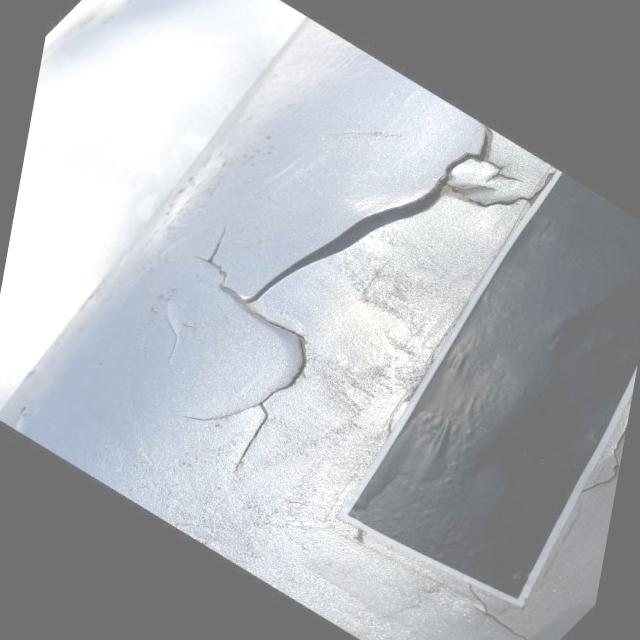crack: (256, 160, 462, 334), (196, 306, 325, 441), (185, 228, 254, 306)
